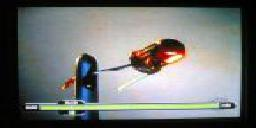LED: (116, 36, 186, 90)
